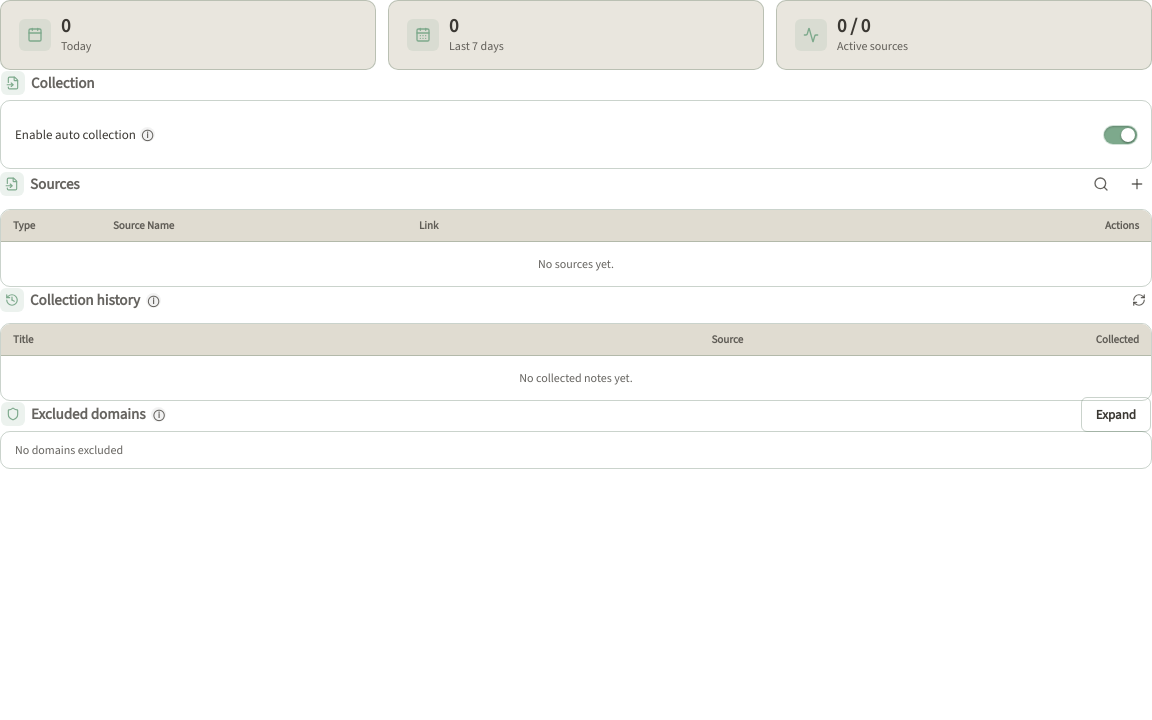
Test: CollectSection › local source detection (W8, PLAN-2026-09-04-local-import) › closing the dry-run modal without confirming does not run the created source
This screenshot has width=1152, height=720.
Click the button with test id "collect-detect-btn".
click(1101, 184)  # box [1086, 169, 1116, 199]
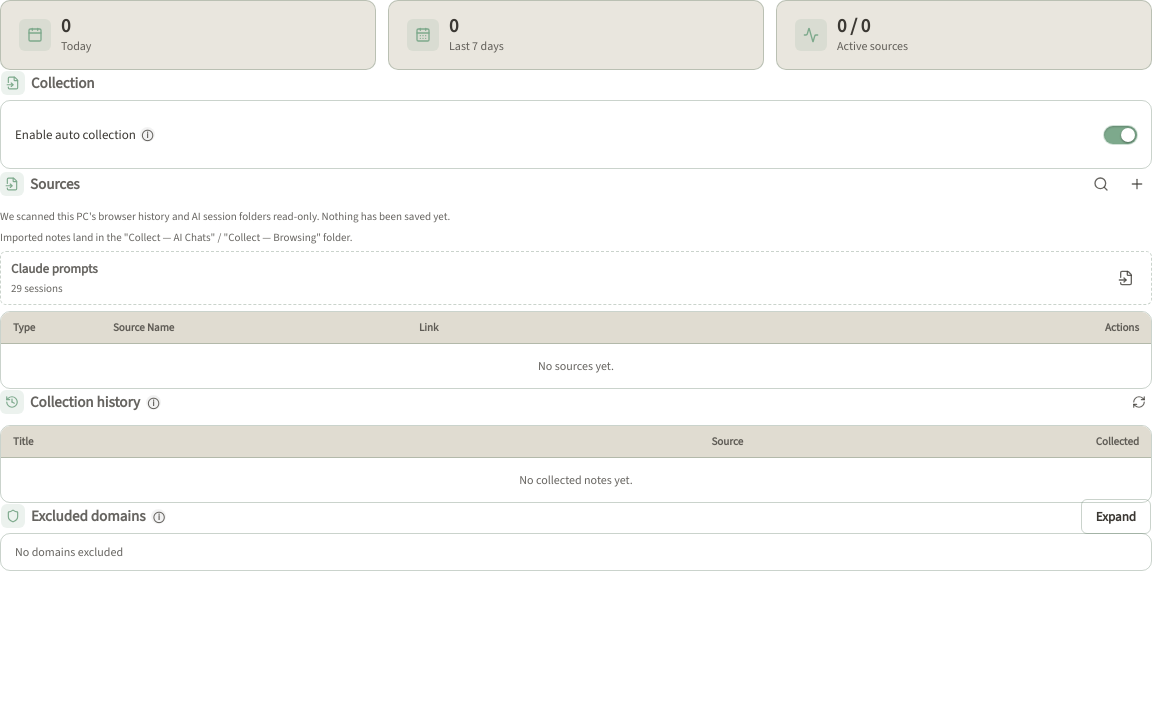
Check: the element with test id "collect-ghost-claude_prompts" is shown, box [0, 251, 1151, 305]
Click the button with test id "collect-ghost-import-claude_prompts".
click(1126, 278)  # box [1111, 263, 1141, 293]
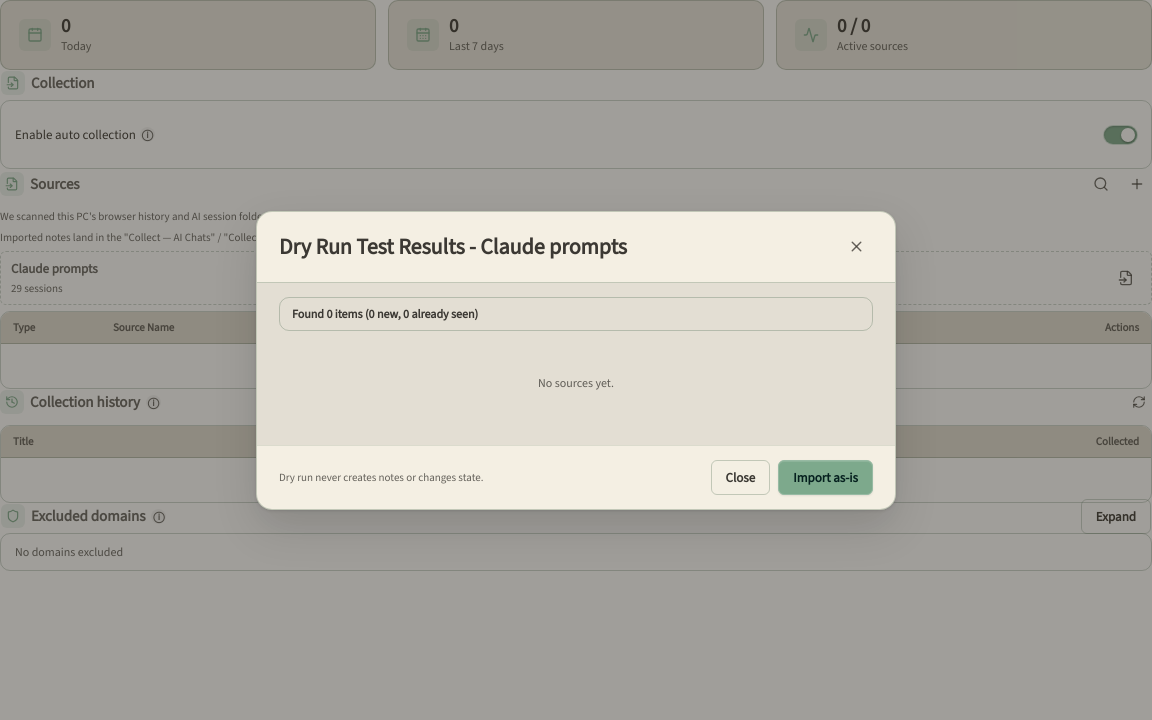
Check: the button with test id "collect-dry-run-confirm-btn" is shown, box [778, 460, 873, 494]
Click the button with test id "collect-dry-run-close-btn".
click(740, 477)  # box [710, 460, 770, 494]
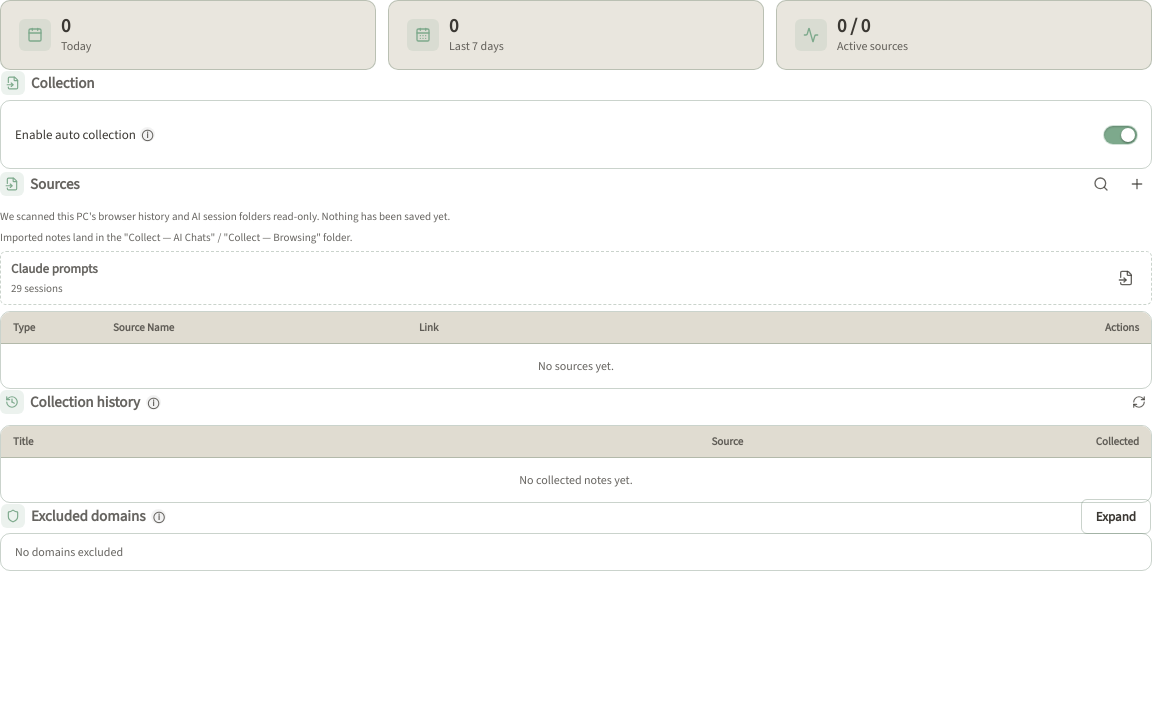
Check: the dialog with test id "modal-shell" is gone
